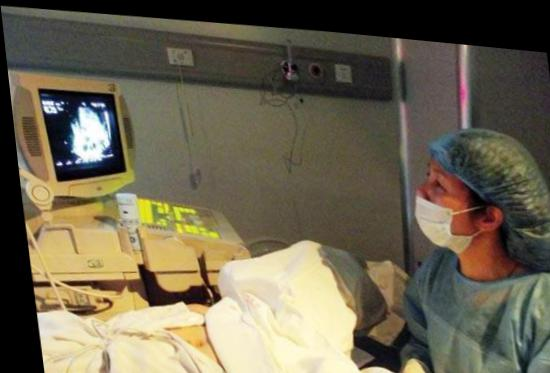WRONG: (404, 154, 497, 247)
